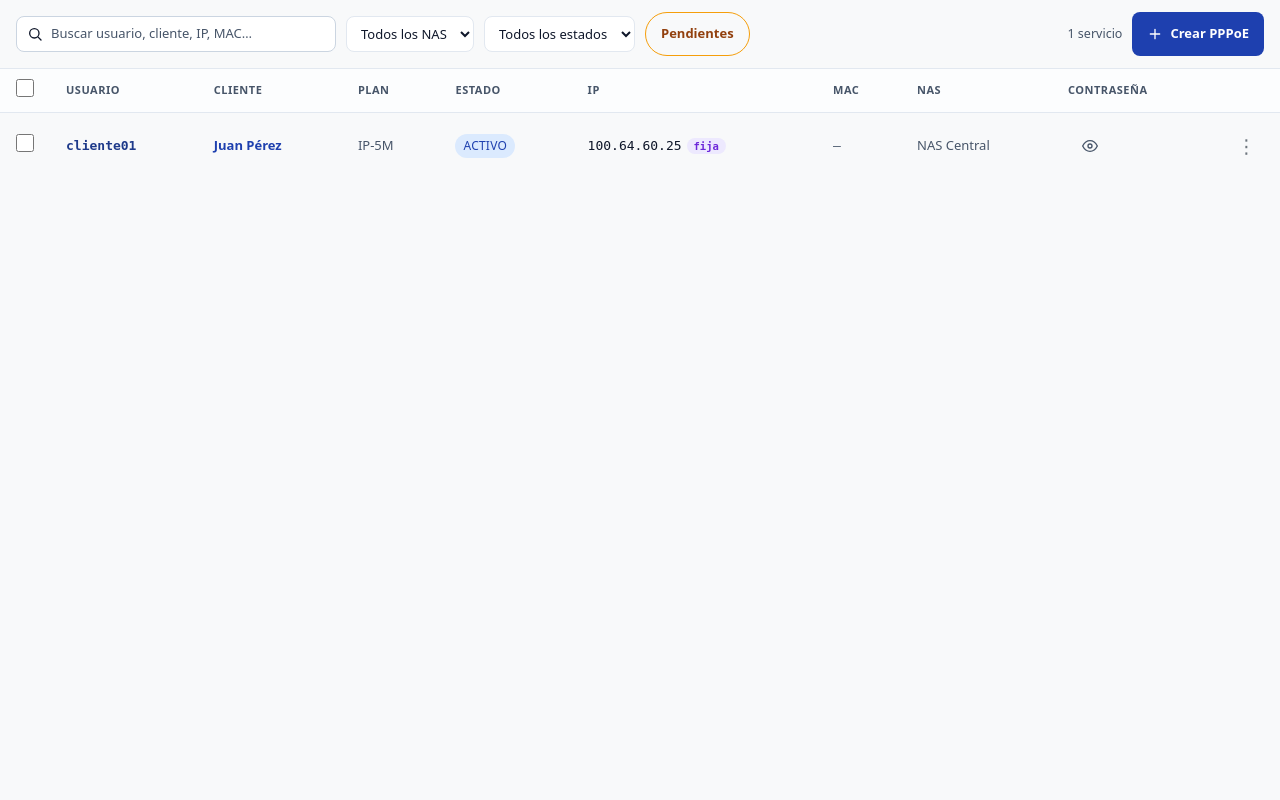
Scenario: MoveNasModal — S9.2 muestra la IP nueva › tras el move OK muestra la IP nueva del DTO de respuesta
This screenshot has width=1280, height=800.
Click the button named "Acciones" at coordinates (1246, 146), box [1229, 132, 1264, 159]
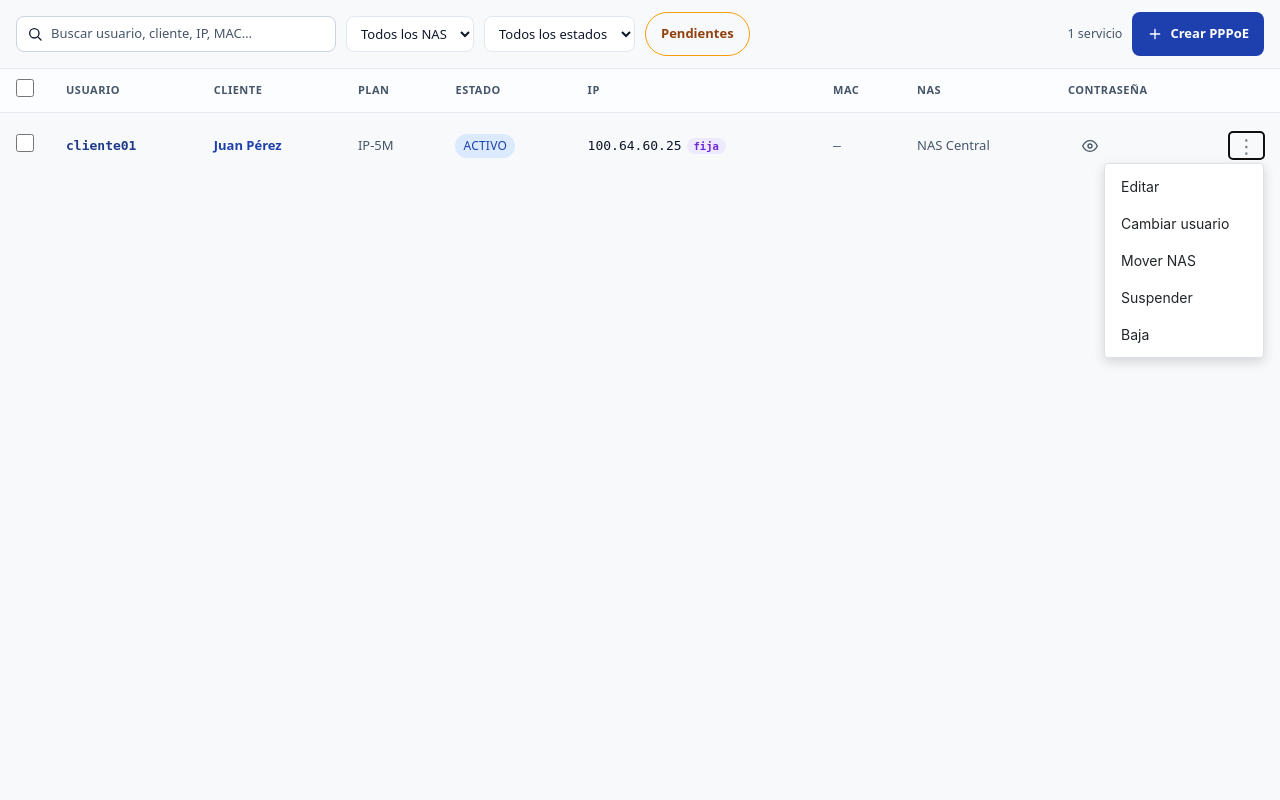
Click the menu item "Mover NAS" at coordinates (1184, 261), box [1105, 242, 1263, 279]
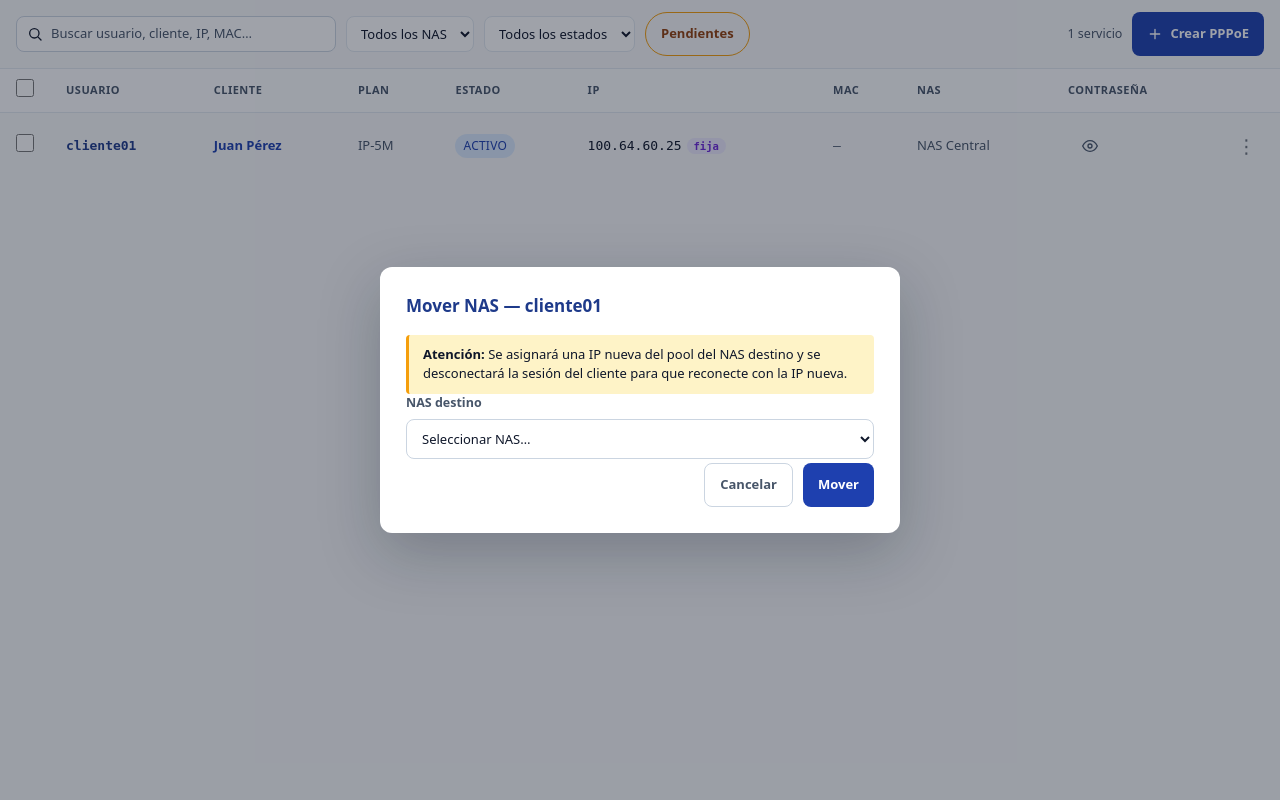
Select "NAS Norte" in the dropdown labelled "NAS destino" at coordinates (640, 439), box [406, 419, 874, 459]
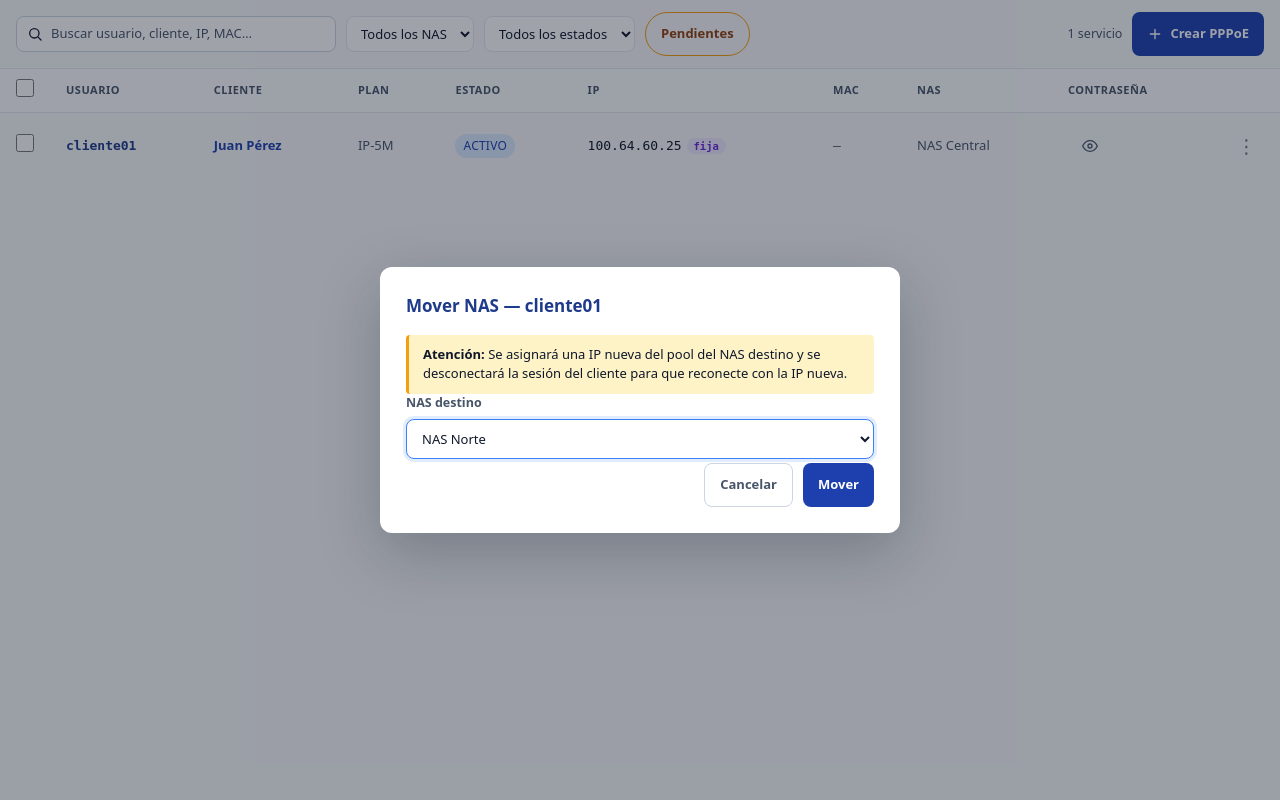
Click the button "Mover" at coordinates (838, 485), box [803, 463, 874, 507]
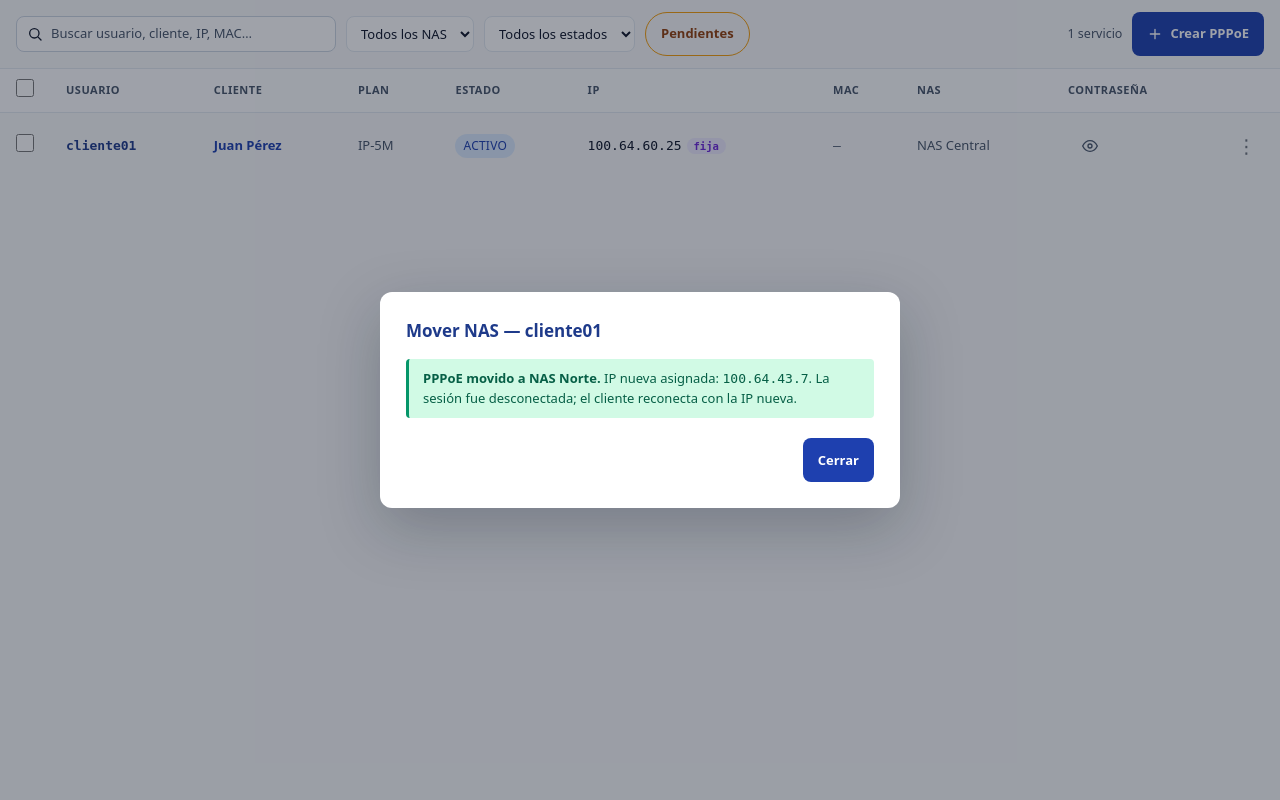
Expected: the dialog is shown, [380, 292, 900, 508]
Expected: the text "100.64.43.7" is shown, [722, 371, 809, 386]
